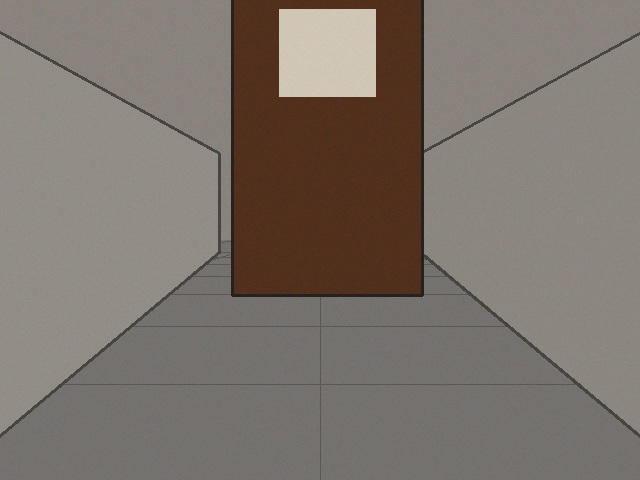directional_sign: (299, 160, 378, 200)
door: (232, 0, 422, 295)
